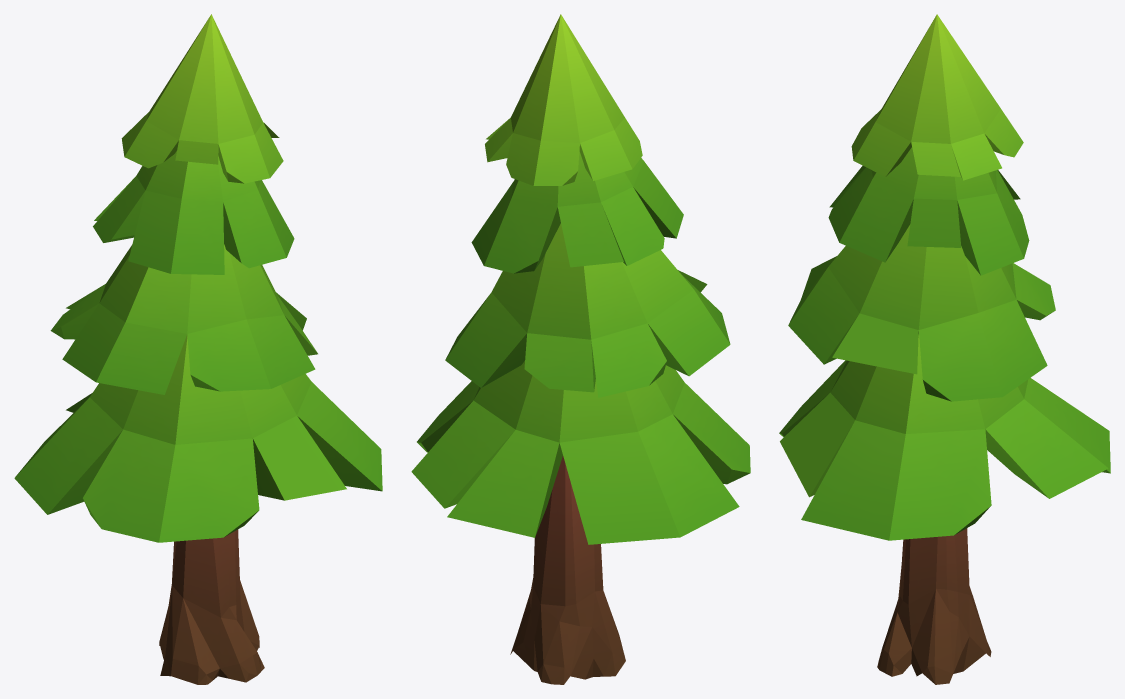
The model's file is tree2.fbx.
3 views of the same model, side by side, from view 1: azimuth 30°, elevation 25°; view 2: azimuth 150°, elevation 25°; view 3: azimuth 270°, elevation 25° (orthographic).
Parts seen in each view (by area): view 1: SM_Tree2; view 2: SM_Tree2; view 3: SM_Tree2.
Boxes of the visible parts, x1,y1,x2,y2 form: SM_Tree2: (14,14,382,684); SM_Tree2: (411,14,750,684); SM_Tree2: (779,14,1110,684).
Size of the model in its own units: 517 by 1010 by 467.
Materials: 2 (2 with a texture image).
